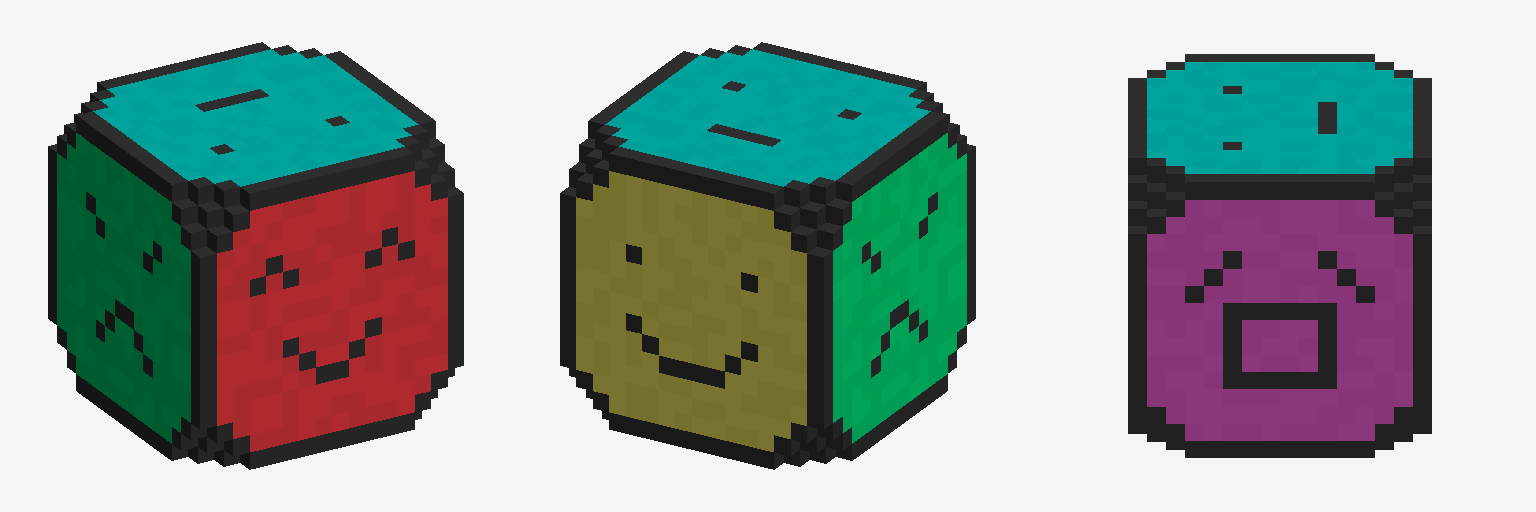
File: cubinho.obj
3 views of the same model, side by side, from view 1: azimuth 30°, elevation 25°; view 2: azimuth 150°, elevation 25°; view 3: azimuth 270°, elevation 25° (orthographic).
Parts seen in each view (by area): view 1: smilecube_toy; view 2: smilecube_toy; view 3: smilecube_toy.
Part boxes in pixels (x1,y1,x2,y2): smilecube_toy: (48, 42, 463, 469); smilecube_toy: (560, 42, 975, 469); smilecube_toy: (1128, 54, 1431, 457).
Size of the model in its own units: 40 by 40 by 40.